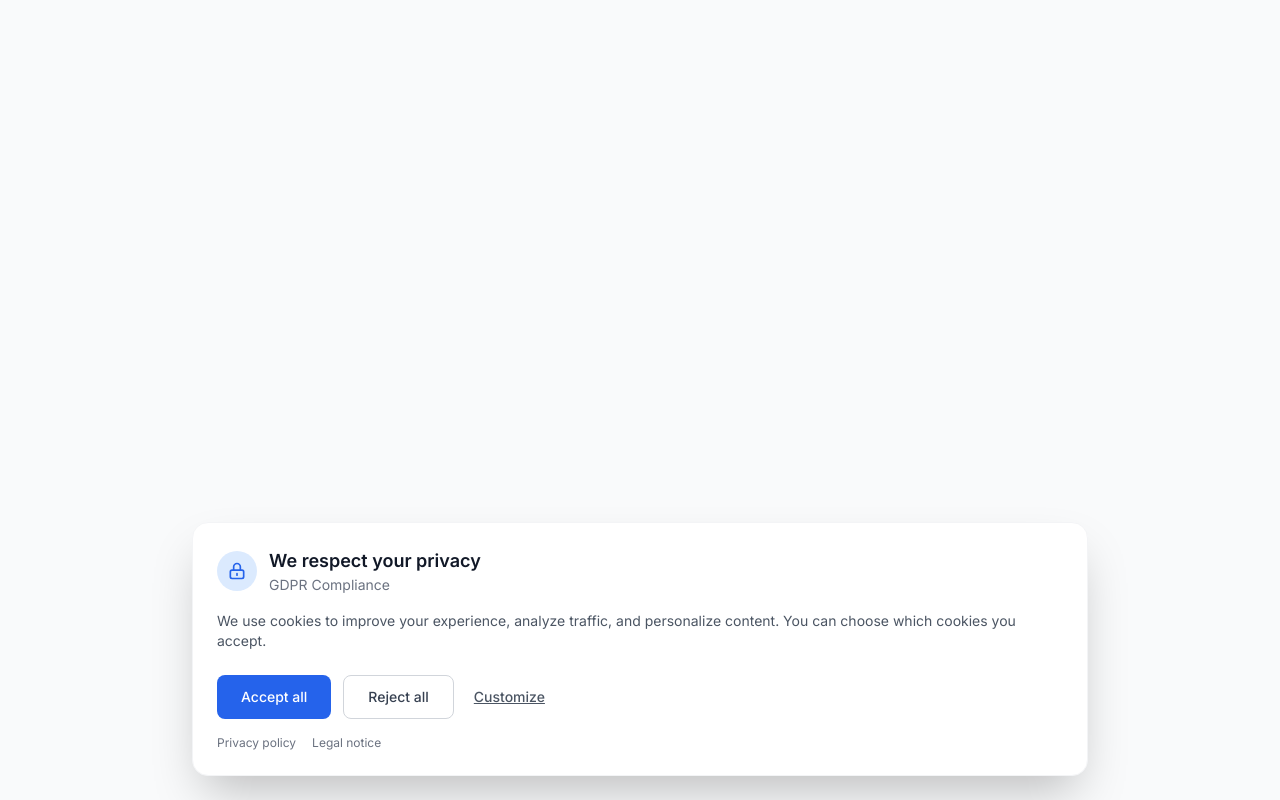
Test: CookieConsent › shows detail preferences when "Customize" is clicked
This screenshot has width=1280, height=800.
Click the button "Customize". click: click(509, 697)
box: [466, 675, 553, 719]
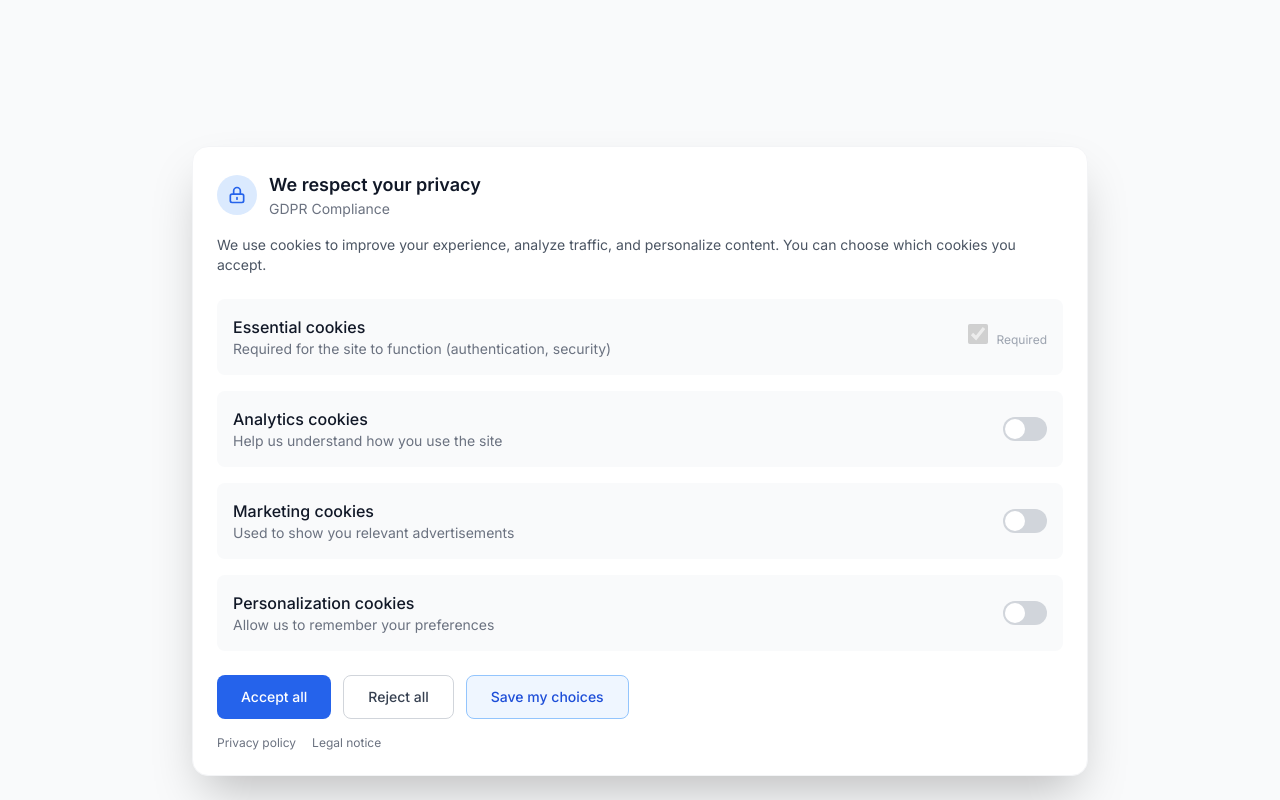
Expected: the heading "Essential cookies" is shown, [233, 317, 365, 337]
Expected: the heading "Analytics cookies" is shown, [233, 409, 368, 429]
Expected: the heading "Marketing cookies" is shown, [233, 501, 374, 521]
